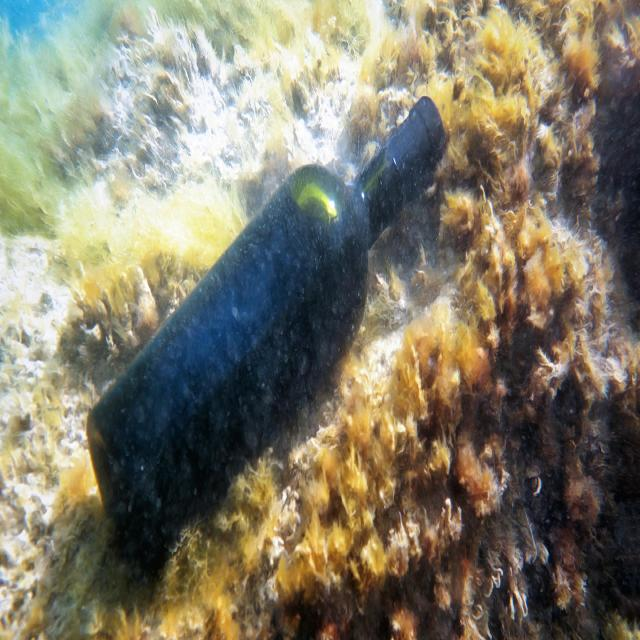Glass: (56, 70, 463, 557)
